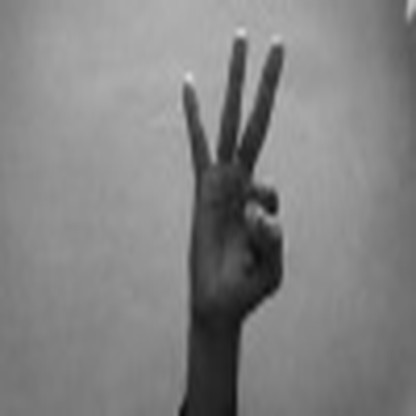f: (155, 23, 302, 328)
